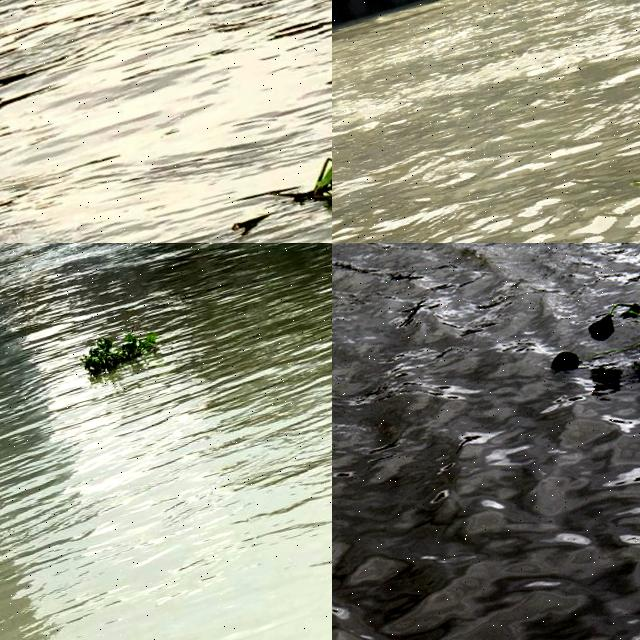water-hyacinth: (528, 278, 640, 394), (252, 121, 333, 231), (71, 321, 162, 381)
